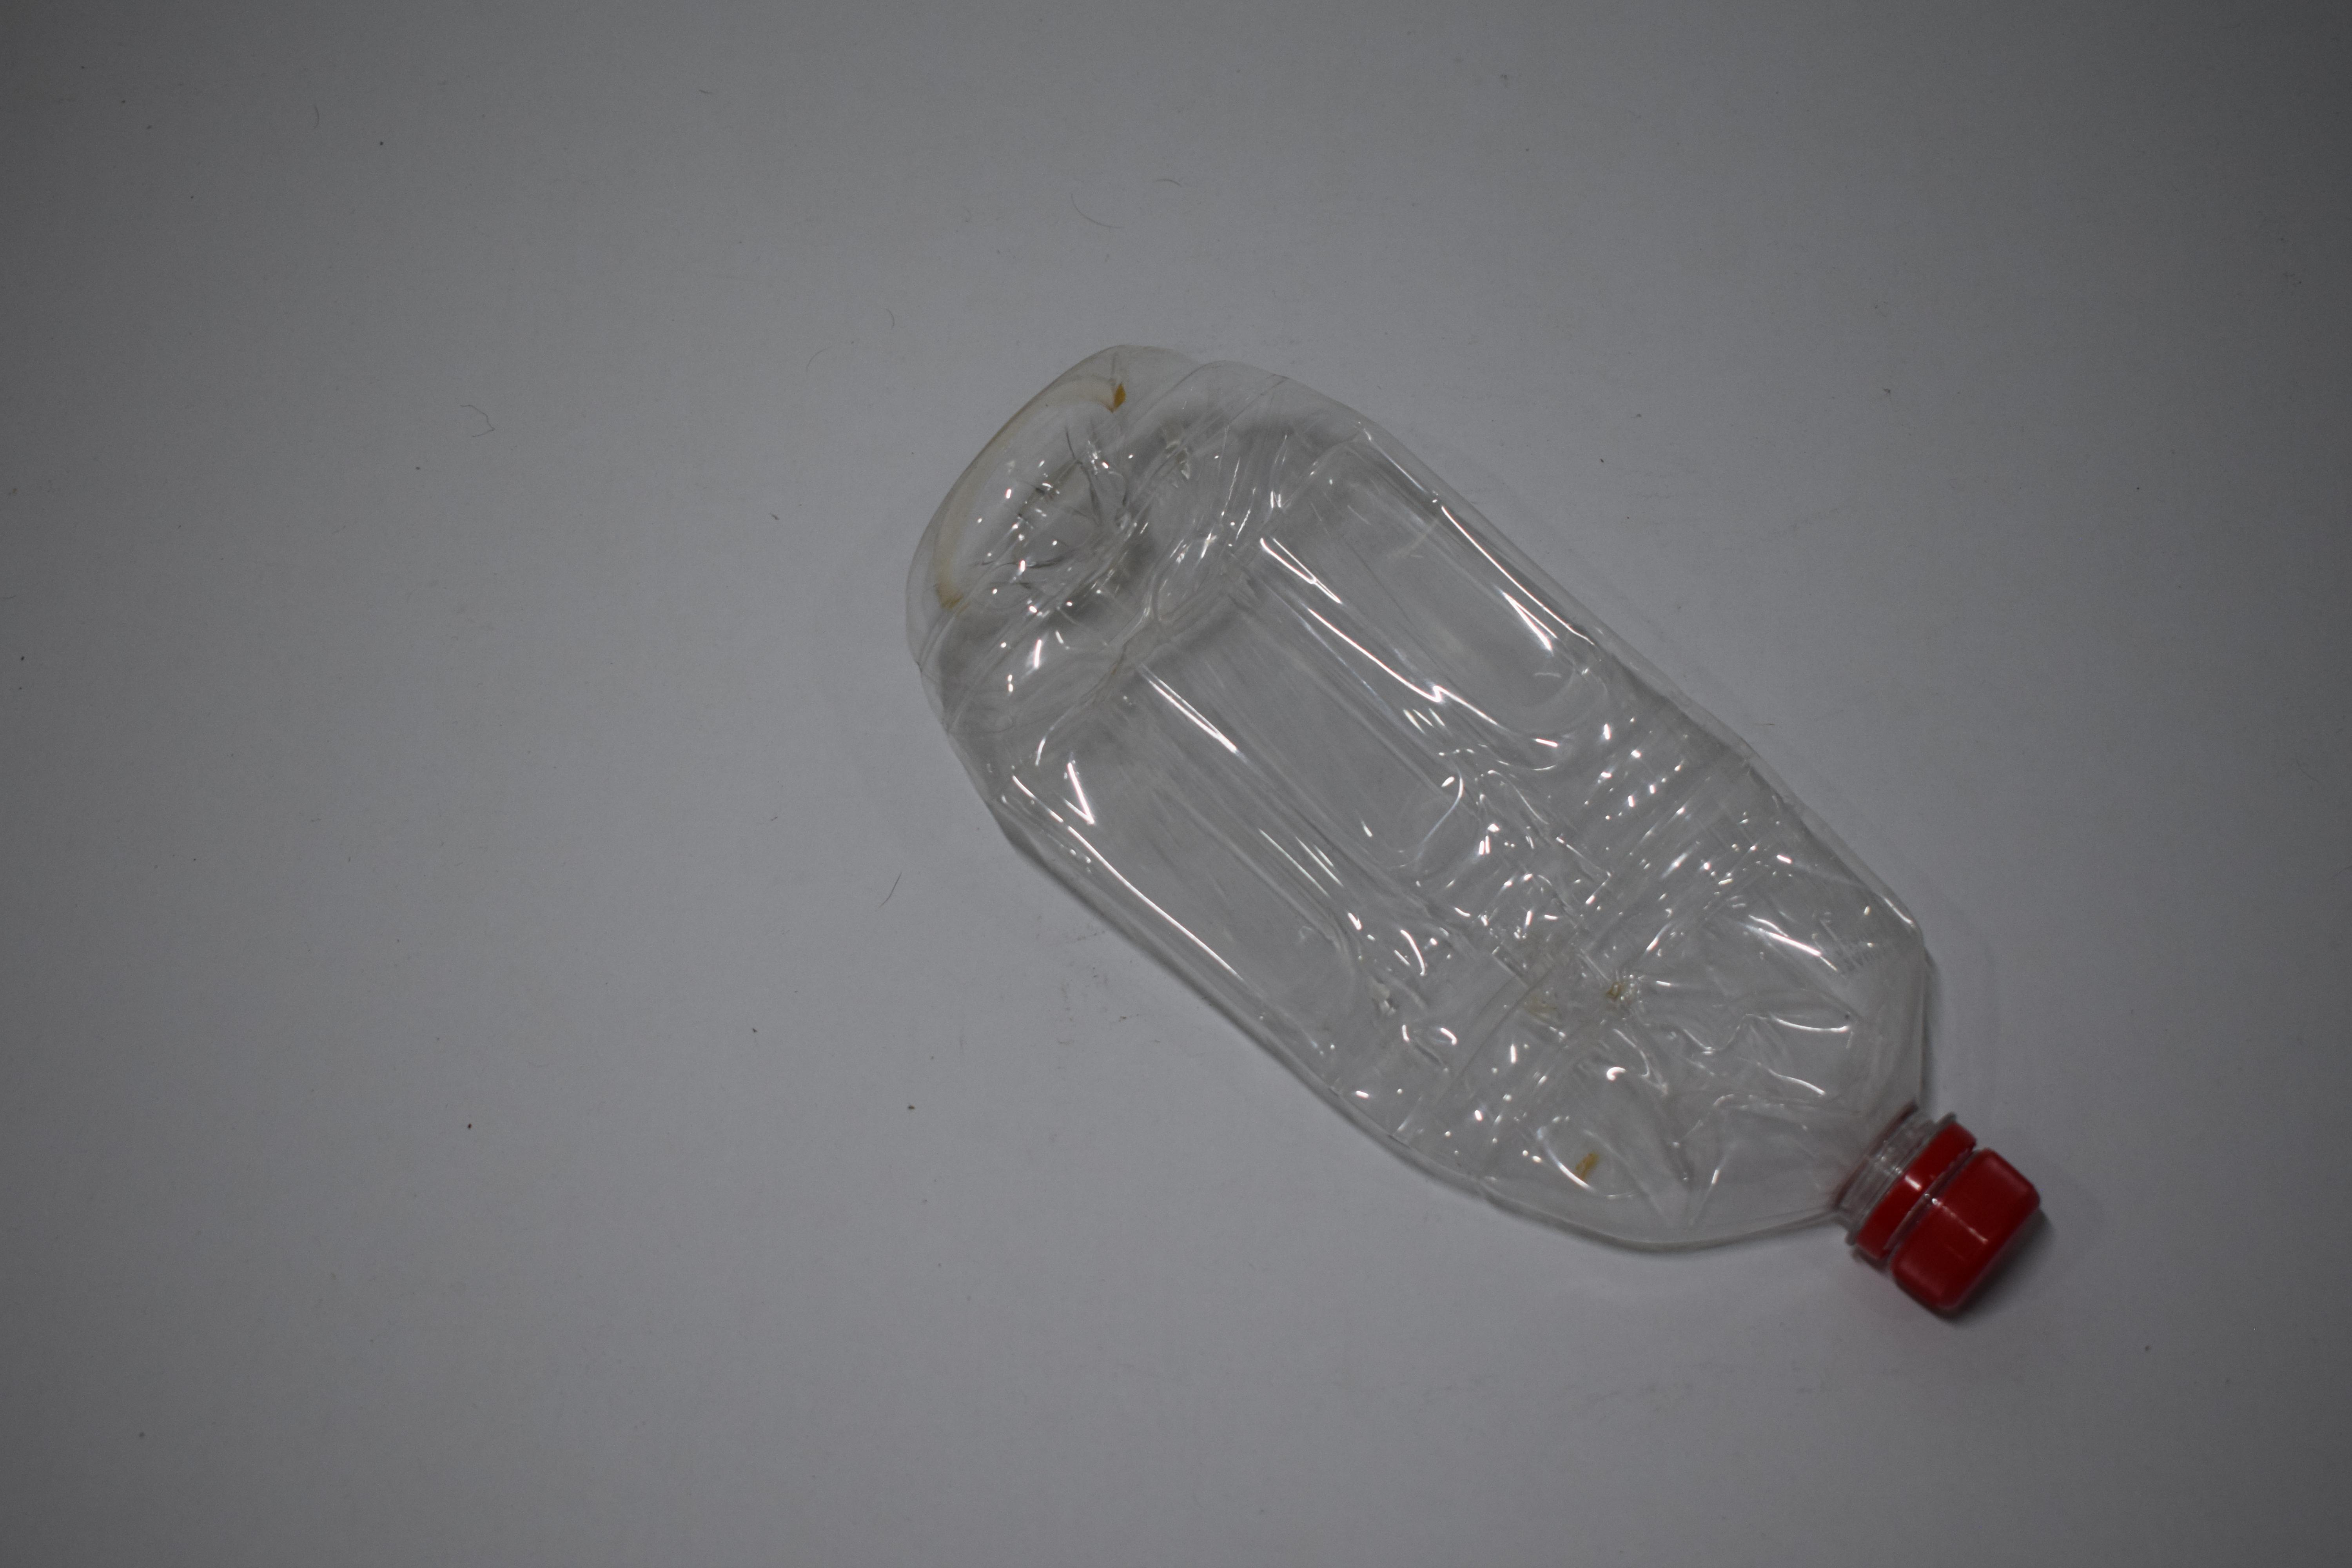bottle: (889, 0, 2058, 553)
